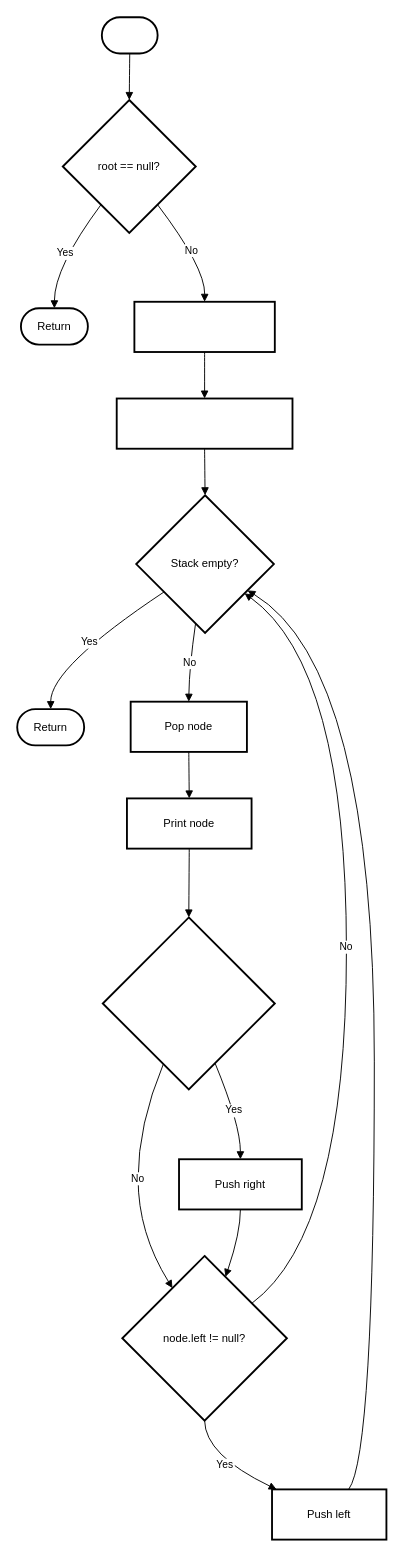
Some shapes in this 403 by 1556 pixel diagram are drawn without their labels. Each missing label, with the box of its shape:
Create Stack: (133, 300, 275, 352)
node.right != null?: (101, 916, 275, 1090)
Push root to stack: (115, 397, 293, 449)
Start: (100, 16, 158, 54)
